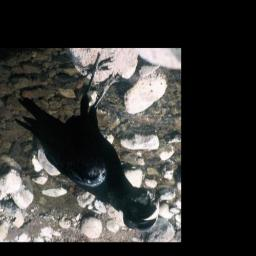Crow: (15, 53, 161, 233)
